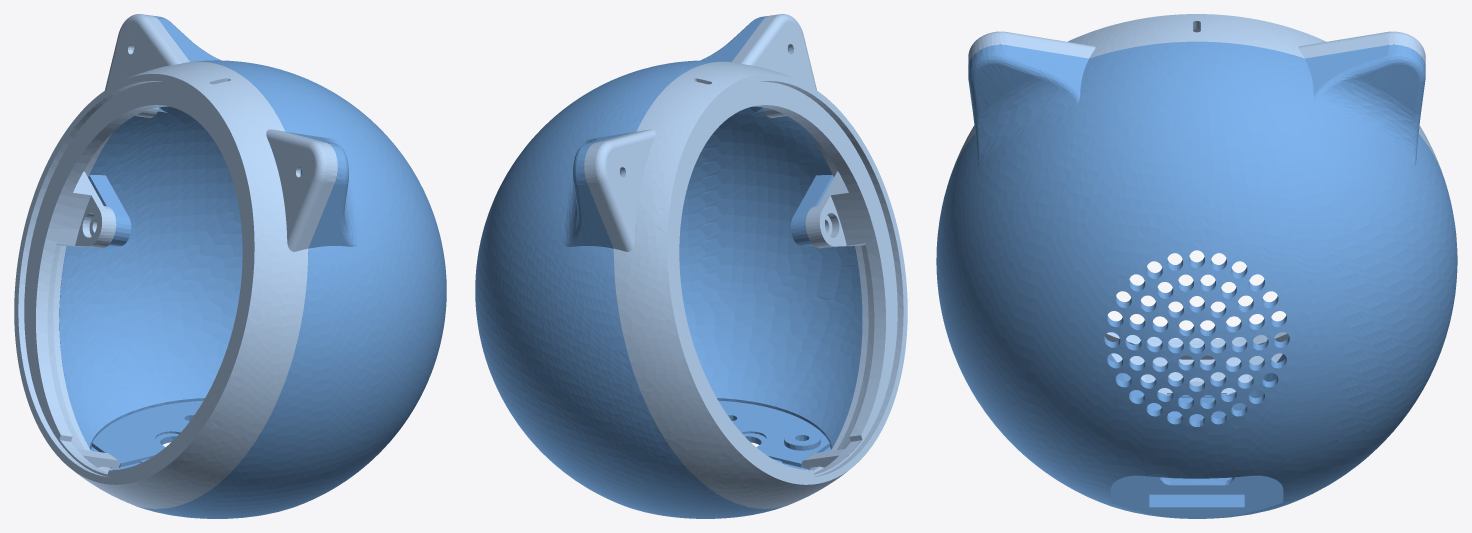
File: vocat_shell.glb
The picture shows the model from 3 angles, left to right: view 1: azimuth 30°, elevation 25°; view 2: azimuth 150°, elevation 25°; view 3: azimuth 270°, elevation 25°; orthographic projection. The views are drawn at different scales.
Parts seen in each view (by area): view 1: body, ring; view 2: body, ring; view 3: body, ring.
Part boxes in pixels (box(x1,y1,x2,y2)): body: box(59, 15, 446, 518); ring: box(14, 14, 337, 508); body: box(475, 16, 862, 518); ring: box(584, 14, 907, 508); body: box(936, 41, 1457, 518); ring: box(950, 14, 1442, 394).
Bounding box in the file's own units: 5.5 × 5.91 × 6.4.
